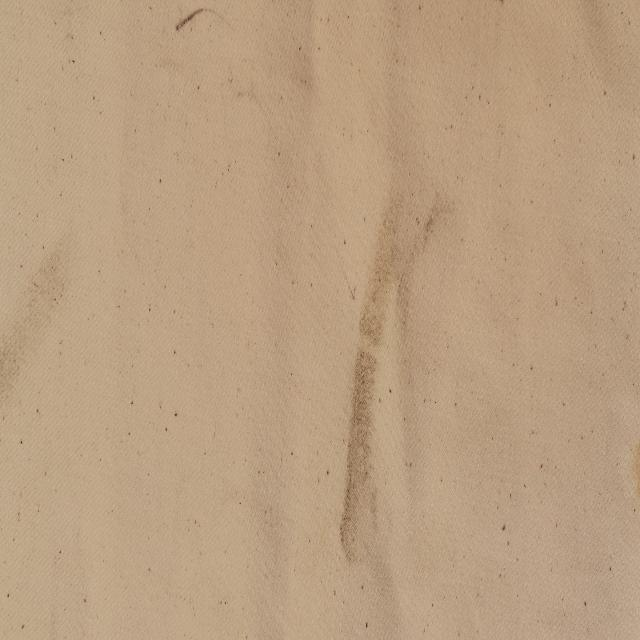taaaches: (339, 122, 459, 610), (168, 0, 215, 44)
